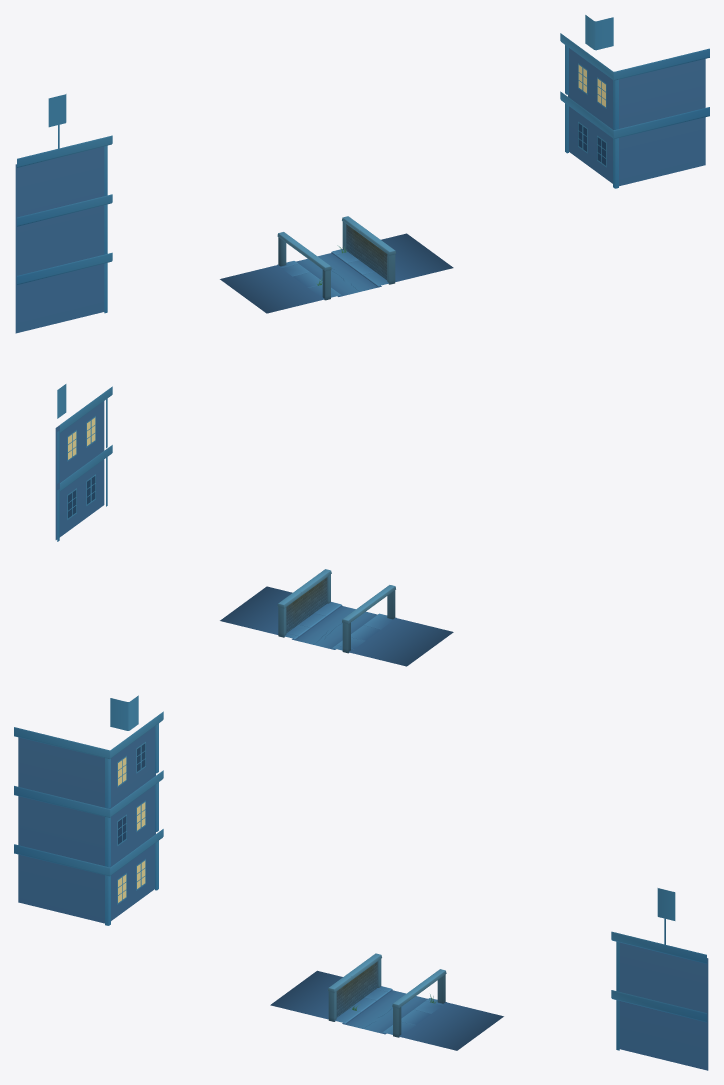
The model's file is UrbanBrickWalls02.prefab.glb.
The picture shows the model from 3 angles, top to bottom: view 1: azimuth 30°, elevation 25°; view 2: azimuth 150°, elevation 25°; view 3: azimuth 330°, elevation 25°; orthographic projection.
Parts seen in each view (by area): view 1: FarBackBuilding01, UrbanBrickWalls02, BrickWall, BrickWall (1); view 2: UrbanBrickWalls02, FarBackBuilding01, BrickWall, BrickWall (1); view 3: FarBackBuilding01, UrbanBrickWalls02, BrickWall (1), BrickWall.
Boxes of the visible parts, x1,y1,x2,y2 form: FarBackBuilding01: [15, 15, 709, 333]; UrbanBrickWalls02: [220, 233, 453, 313]; BrickWall: [342, 216, 396, 284]; BrickWall (1): [277, 232, 331, 300]; UrbanBrickWalls02: [220, 586, 453, 666]; FarBackBuilding01: [55, 384, 112, 541]; BrickWall: [277, 569, 331, 637]; BrickWall (1): [342, 585, 395, 653]; FarBackBuilding01: [14, 695, 708, 1070]; UrbanBrickWalls02: [270, 970, 503, 1050]; BrickWall (1): [327, 953, 381, 1021]; BrickWall: [392, 969, 446, 1037].
Bounding box in the file's own units: 76.34 × 26.74 × 10.17.
Materials: 2 (1 with a texture image).
